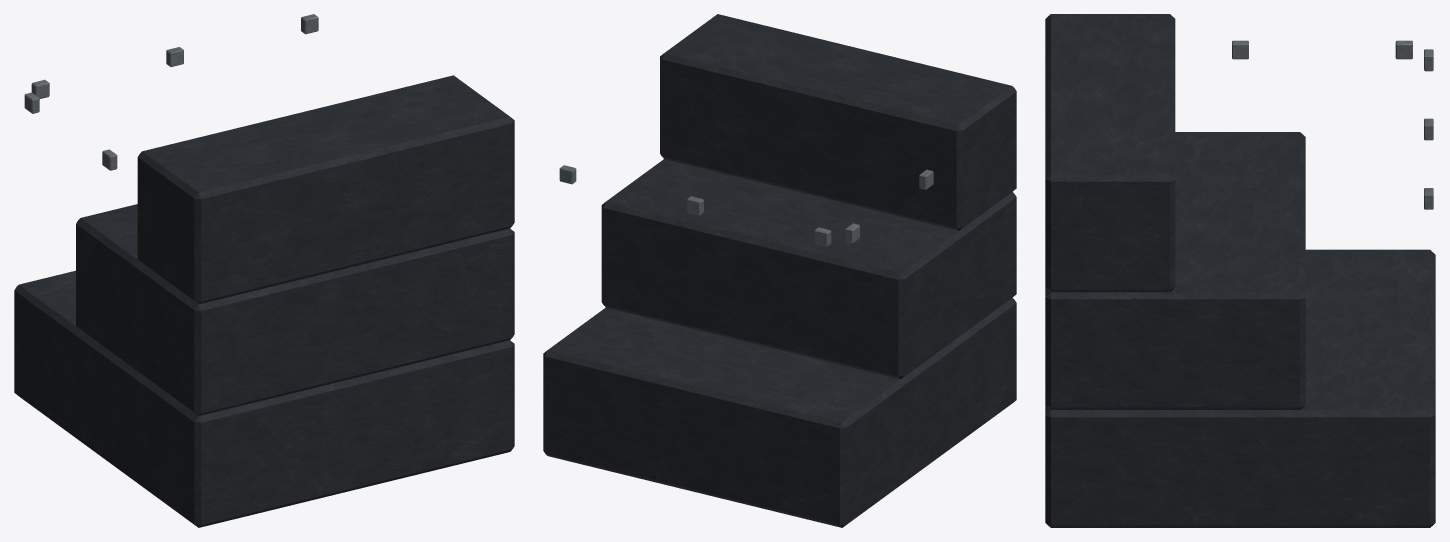
The model's file is train_black_iron_stairs.gltf.
3 views of the same model, side by side, from view 1: azimuth 30°, elevation 25°; view 2: azimuth 150°, elevation 25°; view 3: azimuth 270°, elevation 25° (orthographic). The views are drawn at different scales.
Size of the model in its own units: 1 by 1 by 1.
Materials: 2 (2 with a texture image).
